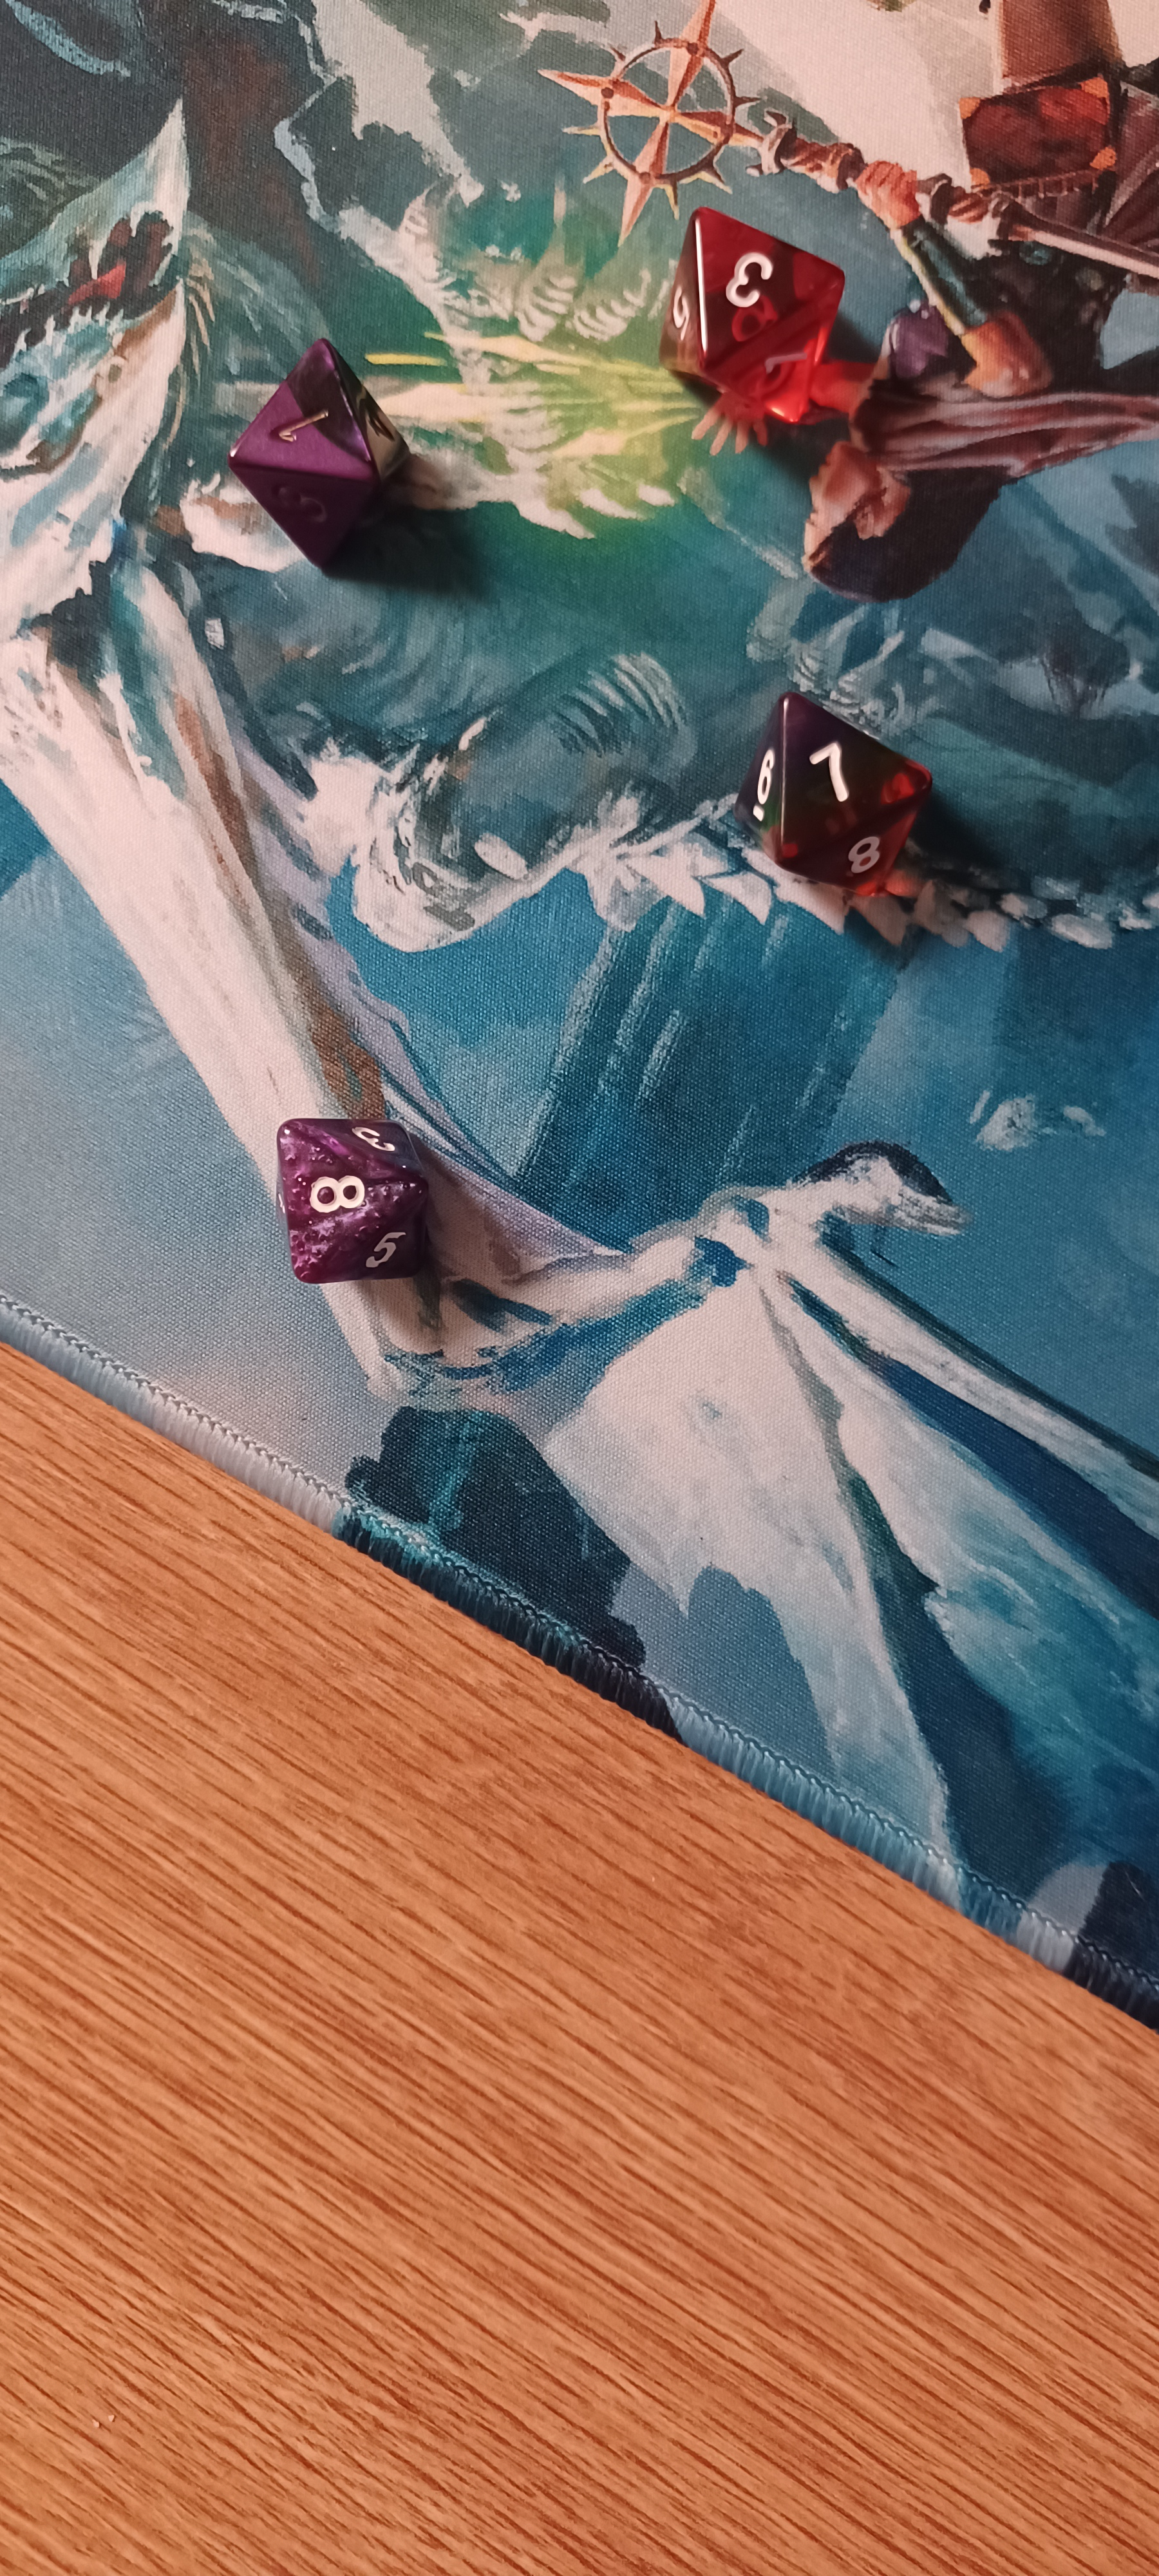eight: (230, 1094, 491, 1324)
one: (200, 314, 451, 565)
seven: (693, 652, 970, 915)
three: (583, 192, 880, 439)
